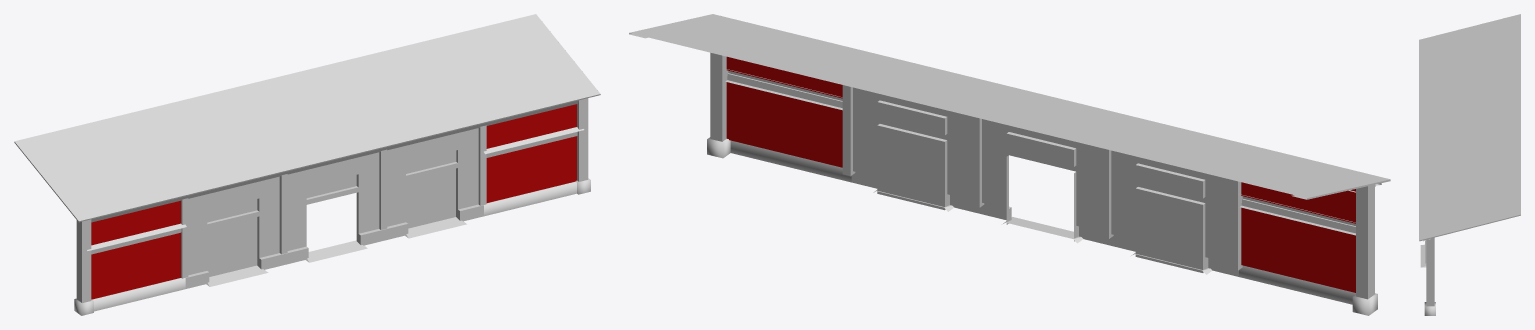
Rendered from NewMenuGarage.fbx.
The picture shows the model from 3 angles, left to right: view 1: azimuth 30°, elevation 25°; view 2: azimuth 150°, elevation 25°; view 3: azimuth 270°, elevation 25°; orthographic projection. The views are drawn at different scales.
Visible parts, largest first — view 1: Garage; view 2: Garage; view 3: Garage.
Boxes of the visible parts, x1,y1,x2,y2 form: Garage: (14, 14, 600, 315); Garage: (629, 14, 1390, 315); Garage: (1419, 14, 1520, 315).
Bounding box in the file's own units: 42 × 10.12 × 9.
